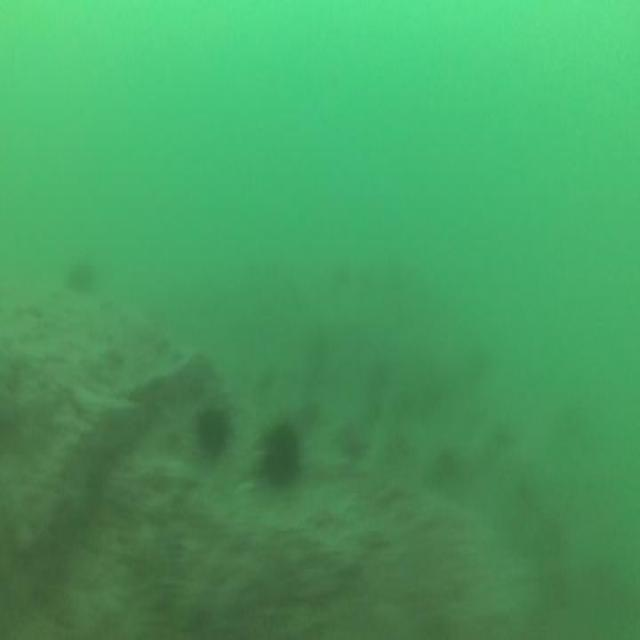echinus: (192, 394, 236, 464), (262, 415, 303, 490), (61, 252, 99, 300)
